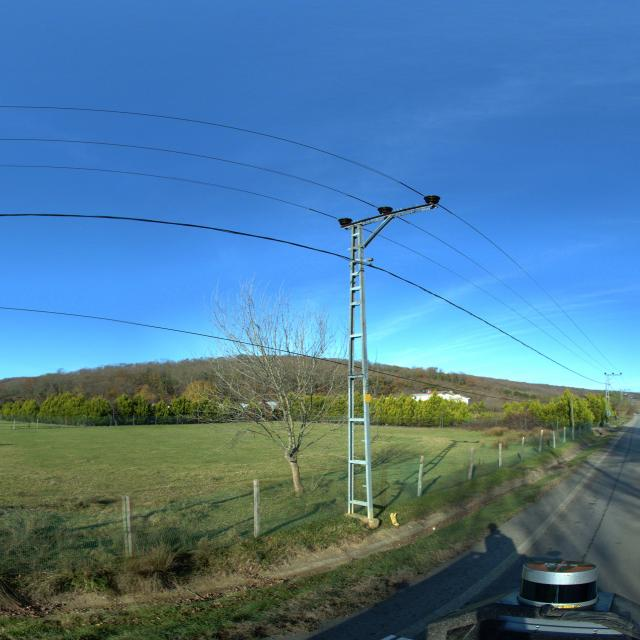Utility Pole Information Plate: (365, 393, 371, 402)
